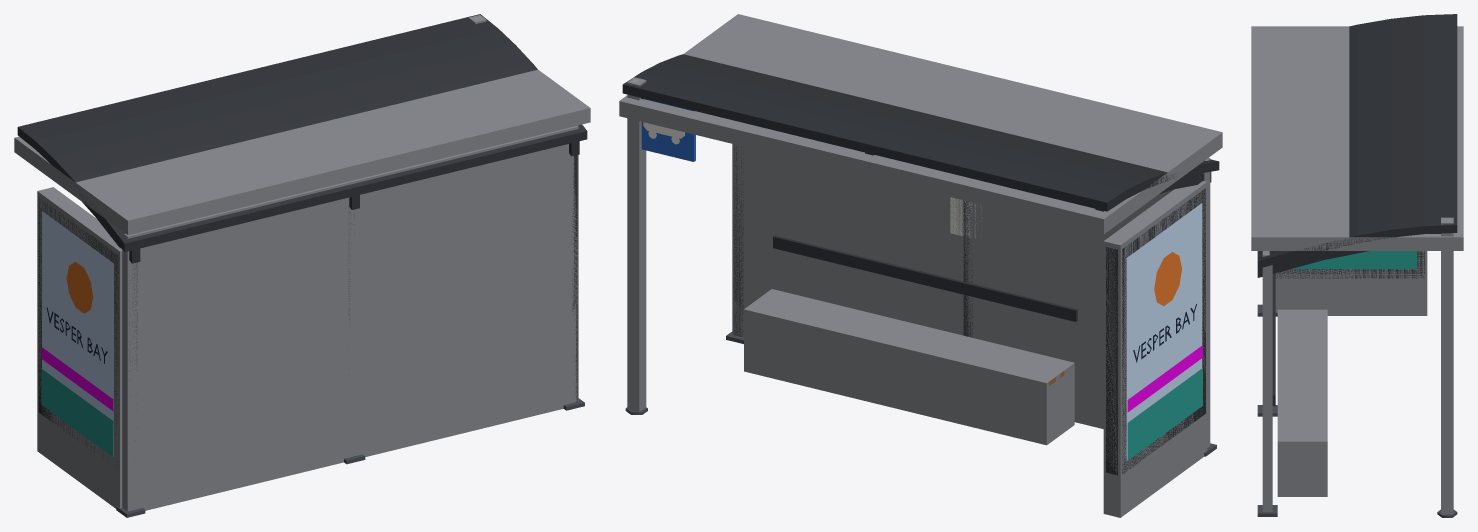
File: prop_bus_stop.glb
3 renders of one model, left to right at view 1: azimuth 30°, elevation 25°; view 2: azimuth 150°, elevation 25°; view 3: azimuth 270°, elevation 25°, orthographic. The views are drawn at different scales.
Visible parts, largest first — view 1: prop_bus_stop__col, prop_bus_stop__mesh; view 2: prop_bus_stop__col, prop_bus_stop__mesh; view 3: prop_bus_stop__col, prop_bus_stop__mesh.
Boxes of the visible parts, left/top/right/bottom form: prop_bus_stop__col: left=14, top=15, right=590, bottom=511; prop_bus_stop__mesh: left=17, top=14, right=587, bottom=517; prop_bus_stop__col: left=619, top=14, right=1222, bottom=517; prop_bus_stop__mesh: left=622, top=54, right=1219, bottom=475; prop_bus_stop__col: left=1251, top=26, right=1463, bottom=514; prop_bus_stop__mesh: left=1257, top=14, right=1457, bottom=517.
Bounding box in the file's own units: 4 × 2.6 × 1.7.
Materials: 2 (1 with a texture image).
